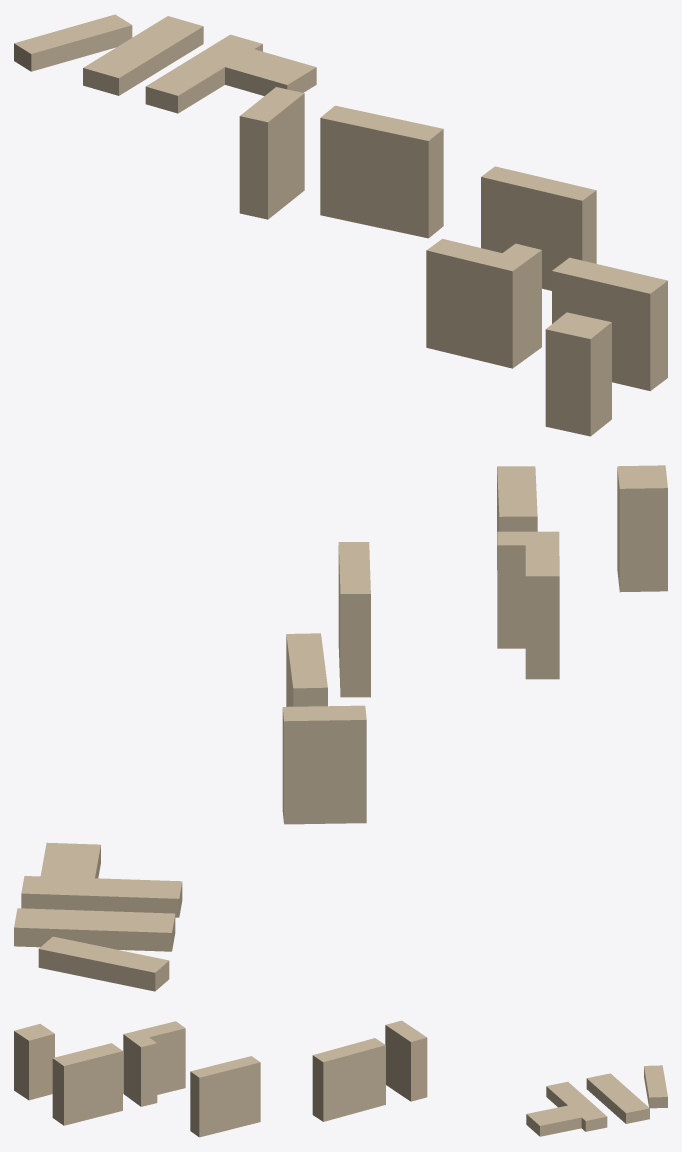
The model's file is -6_17-estimated-coarse.glb.
3 renders of one model, top to bottom at view 1: azimuth 30°, elevation 25°; view 2: azimuth 150°, elevation 25°; view 3: azimuth 270°, elevation 25°, orthographic. The views are drawn at different scales.
Bounding box in the file's own units: 145 × 66 × 655.
